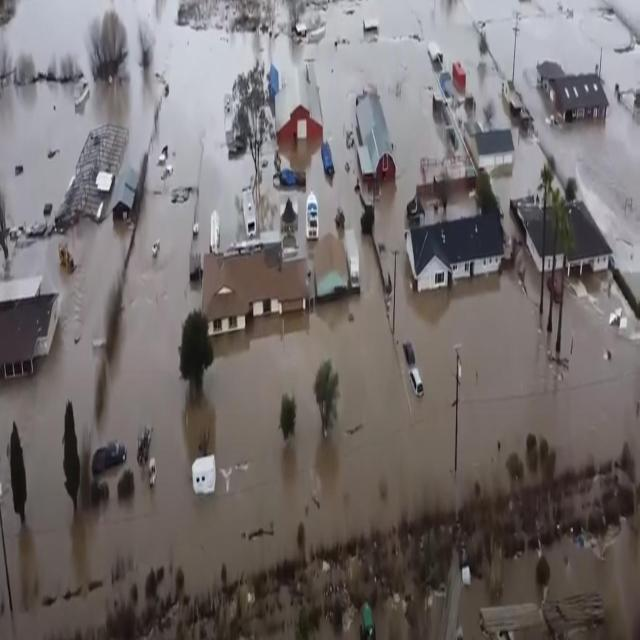flood: (0, 0, 640, 636), (467, 0, 640, 300), (545, 511, 640, 638), (491, 137, 546, 231), (503, 549, 541, 602), (461, 582, 492, 638), (0, 538, 11, 639)
house: (406, 168, 504, 291), (202, 248, 316, 336), (517, 188, 615, 285), (0, 276, 56, 378), (537, 53, 610, 124), (351, 87, 400, 181), (273, 65, 323, 149), (477, 599, 558, 637), (466, 121, 513, 172), (452, 59, 471, 96)
